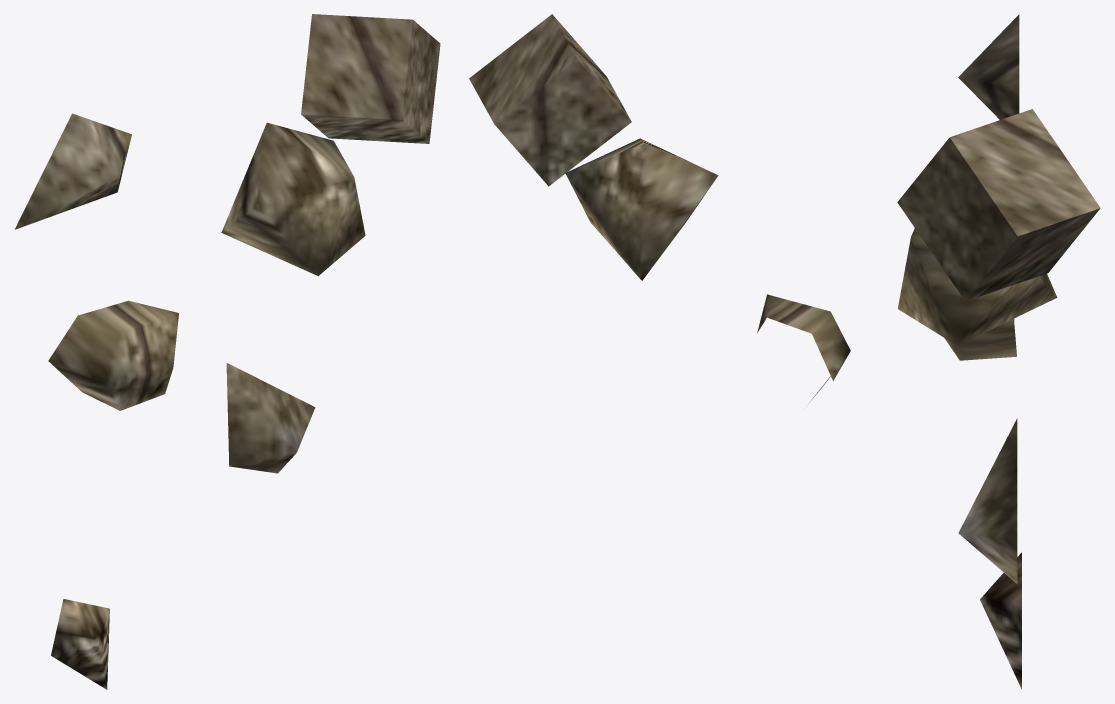
3 renders of one model, left to right at view 1: azimuth 30°, elevation 25°; view 2: azimuth 150°, elevation 25°; view 3: azimuth 270°, elevation 25°, orthographic. The views are drawn at different scales.
Parts seen in each view (by area): view 1: model_Object05; view 2: model_Object05; view 3: model_Object05.
Boxes of the visible parts, x1,y1,x2,y2 form: model_Object05: [14, 14, 440, 689]; model_Object05: [469, 14, 850, 406]; model_Object05: [897, 14, 1100, 689].
Bounding box in the file's own units: 0.9034 × 1.27 × 0.3342.
1 material, 1 textured.
